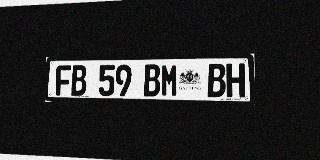5: (99, 65, 115, 96)
9: (115, 65, 132, 96)
B: (207, 63, 226, 97), (144, 64, 160, 97), (71, 65, 87, 96)
F: (56, 65, 71, 96)
H: (226, 63, 245, 97)
M: (161, 64, 178, 97)
